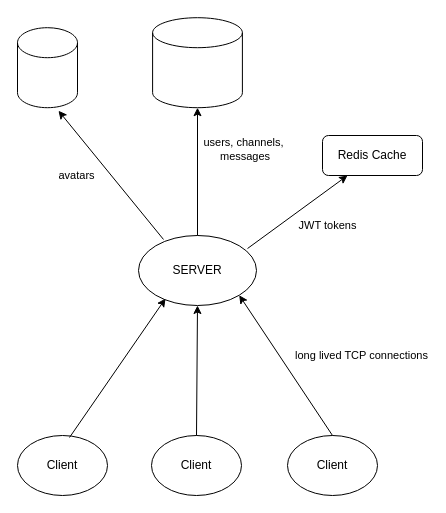
Image size: 446x513. Some labels were removed from this diagram. The box of each missing label's shape, as (x1, y1, x2, y2) in pixels:
PostgreSQL: (152, 17, 242, 108)
S3: (16, 27, 78, 108)
